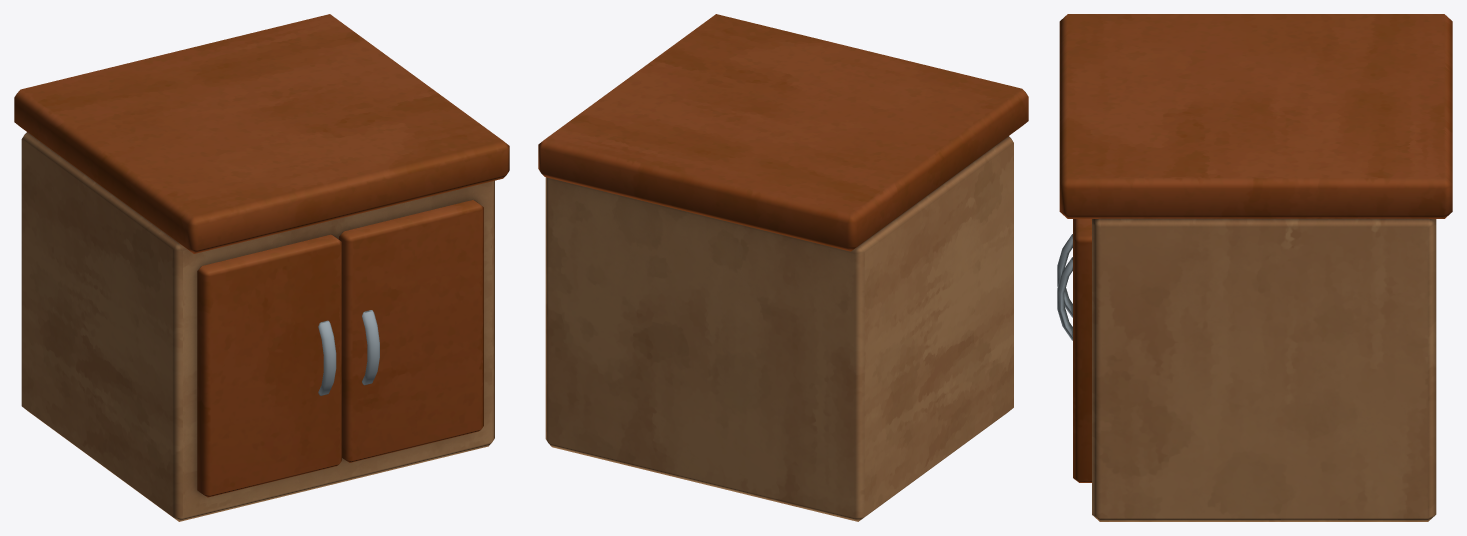
The model's file is ClearCounter.fbx.
3 renders of one model, left to right at view 1: azimuth 30°, elevation 25°; view 2: azimuth 150°, elevation 25°; view 3: azimuth 270°, elevation 25°, orthographic. The views are drawn at different scales.
Parts seen in each view (by area): view 1: Counter; view 2: Counter; view 3: Counter.
Part boxes in pixels (x1,y1,x2,y2): Counter: [14, 14, 509, 521]; Counter: [538, 14, 1028, 521]; Counter: [1057, 14, 1452, 521].
Size of the model in its own units: 89.87 by 84.32 by 87.83.
